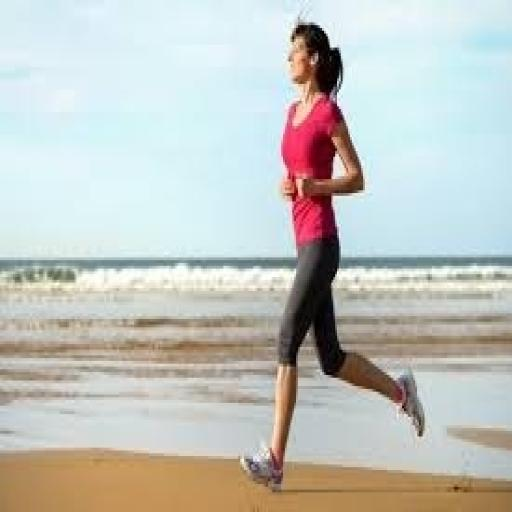running: (236, 17, 428, 495)
